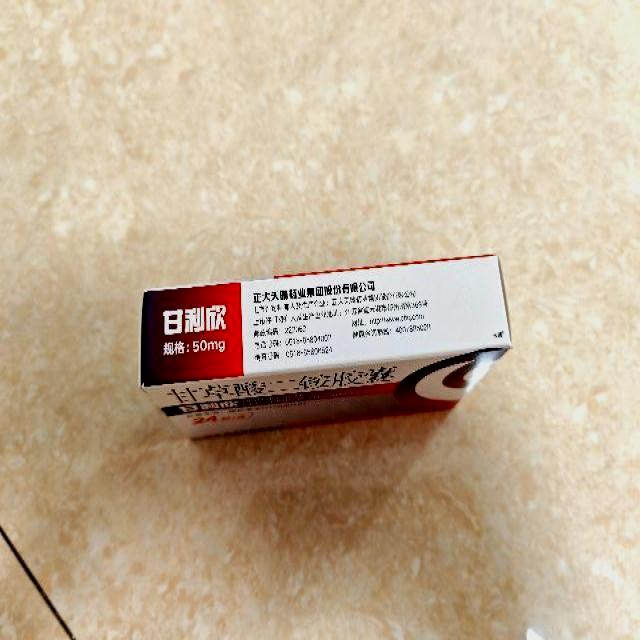box: (138, 252, 514, 439)
